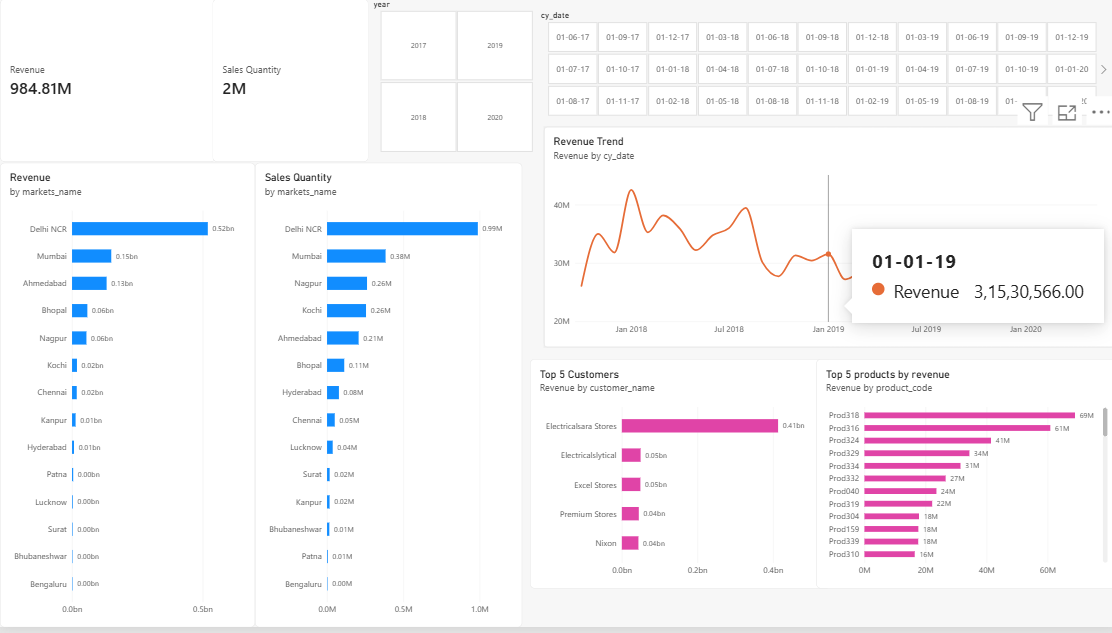

The dashboard page shown, as its layout file describes it:
{"tool":"powerbi","page":{"name":"Page 1","canvas":[1920,1080],"ordinal":0},"visuals":[{"type":"cardVisual","fields":{"Data":["BaseMeasures.Revenue"]},"box":[0,0,371.1,280.9],"z":0},{"type":"cardVisual","fields":{"Data":["BaseMeasures.Sales Quantity"]},"box":[365.2,0,268.4,280.9],"z":1000},{"type":"barChart","fields":{"Category":["sales markets.markets_name"],"Y":["BaseMeasures.Revenue"]},"box":[0,280.9,438.2,798.8],"z":2000},{"type":"barChart","fields":{"Category":["sales markets.markets_name"],"Y":["BaseMeasures.Sales Quantity"]},"box":[439,280.4,459.1,798.8],"z":3000},{"type":"slicer","fields":{"Values":["sales date.cy_date"]},"box":[922.6,18.3,981.5,182.9],"z":4000},{"type":"slicer","fields":{"Values":["sales date.year"]},"box":[634,0,300.8,264.2],"z":5000},{"type":"barChart","title":"Top 5 Customers","fields":{"Category":["sales customers.custmer_name"],"Y":["BaseMeasures.Revenue"]},"box":[910.4,617.8,517.8,394.1],"z":6000},{"type":"barChart","title":"Top 5  products by revenue","fields":{"Category":["sales transactions.product_code"],"Y":["BaseMeasures.Revenue"]},"box":[1402.2,617.8,517.8,394.1],"z":7000},{"type":"lineChart","title":"Revenue Trend","fields":{"Category":["sales date.cy_date.Variation.Date Hierarchy.Year"],"Y":["BaseMeasures.Revenue"]},"box":[934.8,219.5,985.6,380],"z":8000}]}

Visuals, with their boxes in screenshot pixels (x1, y1, x2, y2), scaled from the page's 1920x1080 canvas onto the 1112x633 screenshot:
cardVisual - BaseMeasures.Revenue: (x1=0, y1=0, x2=215, y2=165)
cardVisual - BaseMeasures.Sales Quantity: (x1=212, y1=0, x2=367, y2=165)
barChart - sales markets.markets_name x BaseMeasures.Revenue: (x1=0, y1=165, x2=254, y2=632)
barChart - sales markets.markets_name x BaseMeasures.Sales Quantity: (x1=254, y1=164, x2=520, y2=632)
slicer - sales date.cy_date: (x1=534, y1=11, x2=1103, y2=118)
slicer - sales date.year: (x1=367, y1=0, x2=541, y2=155)
"Top 5 Customers" barChart: (x1=527, y1=362, x2=827, y2=593)
"Top 5  products by revenue" barChart: (x1=812, y1=362, x2=1111, y2=593)
"Revenue Trend" lineChart: (x1=541, y1=129, x2=1111, y2=351)
